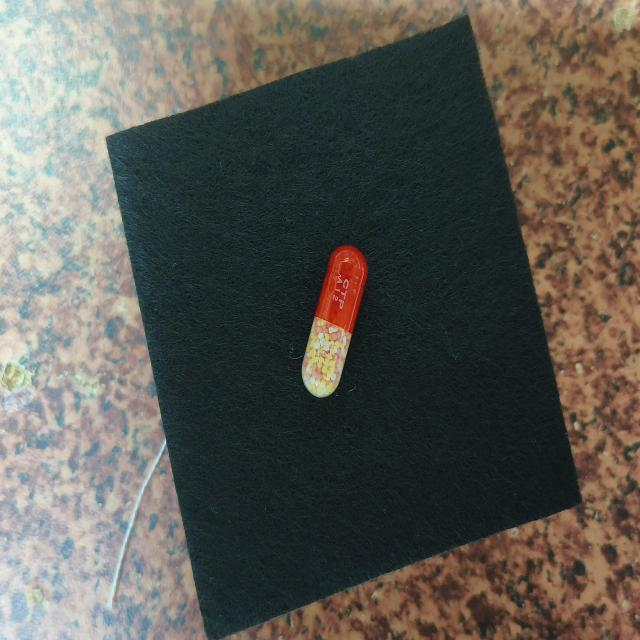Intact Capsule: (302, 245, 368, 398)
